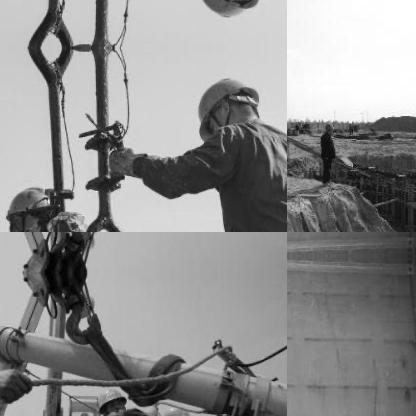Helmet: (189, 69, 263, 138), (0, 178, 52, 231), (188, 0, 264, 25), (95, 384, 129, 415), (162, 405, 195, 415), (322, 122, 334, 134)
